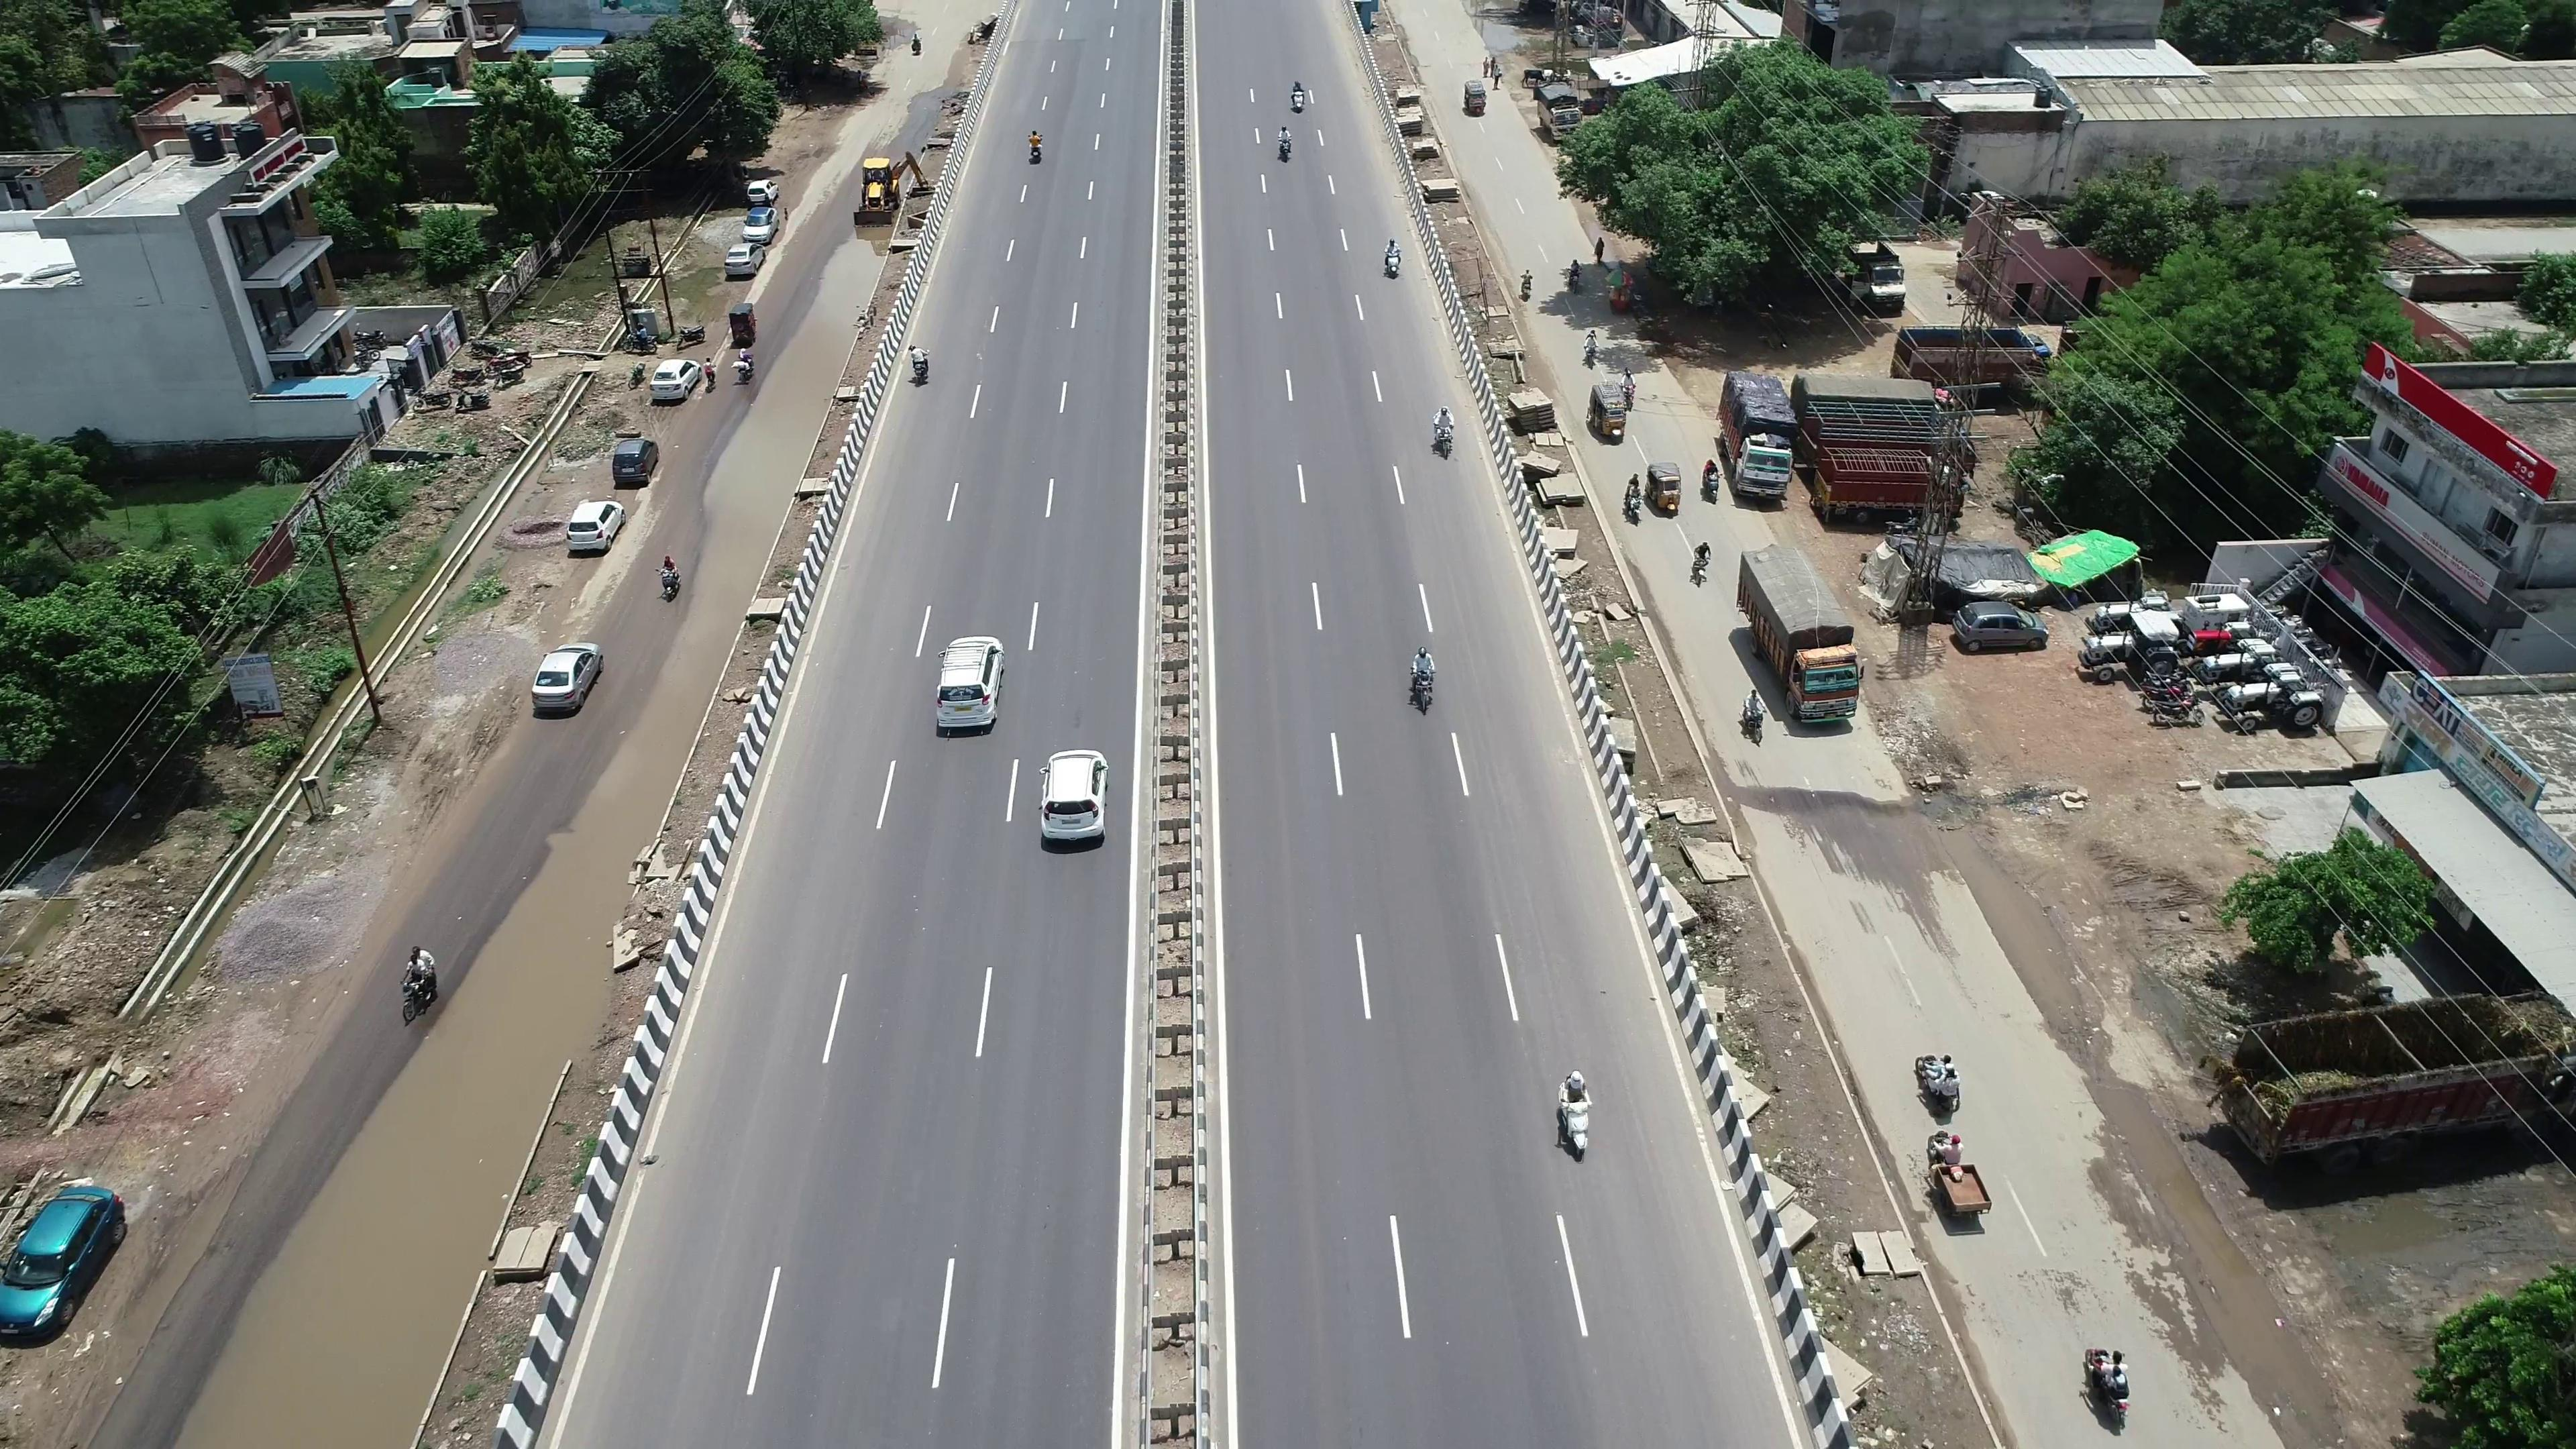Waterlogging: (209, 1007, 538, 1435)
